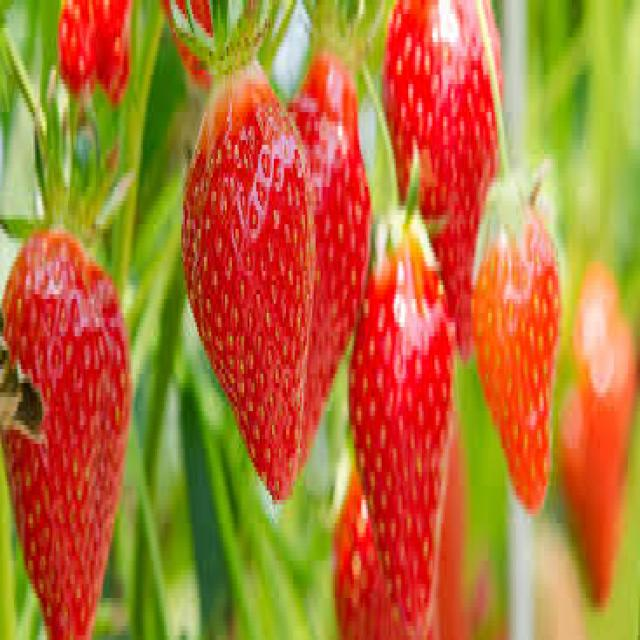strawberry: (173, 62, 318, 500), (0, 171, 133, 640), (350, 202, 460, 630), (383, 0, 500, 370), (472, 185, 562, 519)
